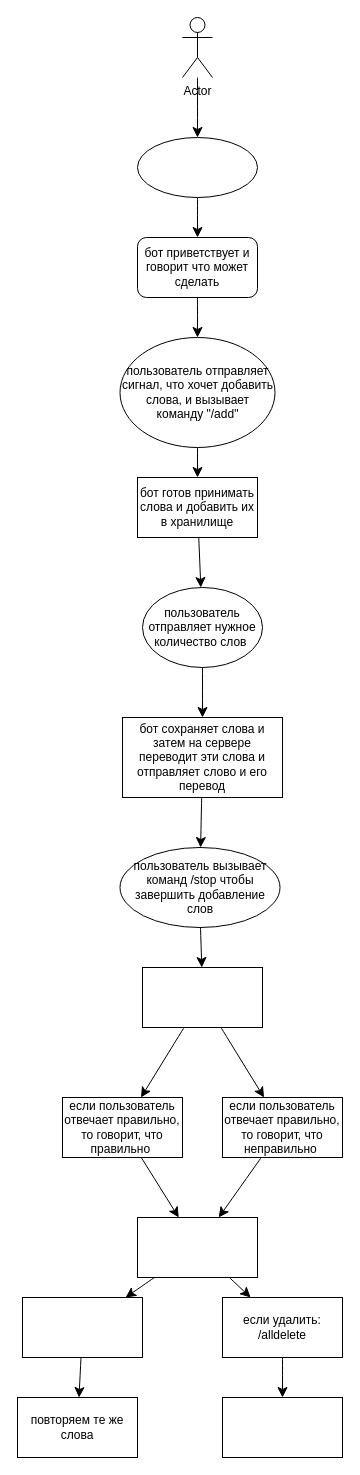
This 360x1475 diagram has some shape labels left out. Each missing label, with the centre of its shape:
/start: [197,167]
бот отправляет слова в рандомном порядке: [202,997]
если повторить: /repeat: [82,1327]
после завершения слов, бот предлагает удалить все слова или повторить: [197,1247]
удаляем все слова: [282,1427]
